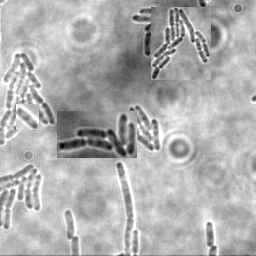Dividing: (114, 161, 133, 255), (204, 221, 215, 248)
Microcolony: (1, 51, 56, 147), (151, 7, 211, 80), (57, 111, 137, 158), (1, 162, 44, 231), (124, 106, 160, 153), (130, 8, 150, 72), (63, 208, 74, 240)
Rod: (16, 104, 39, 130)
